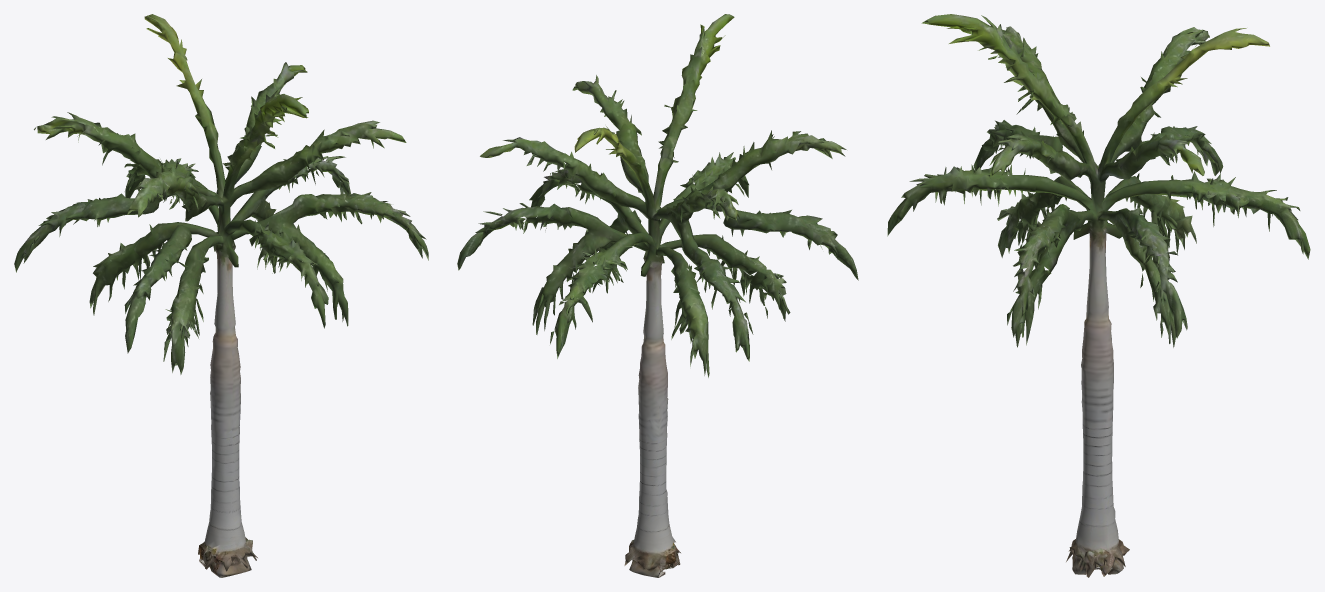
File: palm.glb
3 renders of one model, left to right at view 1: azimuth 30°, elevation 25°; view 2: azimuth 150°, elevation 25°; view 3: azimuth 270°, elevation 25°, orthographic. The views are drawn at different scales.
Parts seen in each view (by area): view 1: tripo_node_8aacbc84-aa9b-44ff-aac6-08dce0273ab0; view 2: tripo_node_8aacbc84-aa9b-44ff-aac6-08dce0273ab0; view 3: tripo_node_8aacbc84-aa9b-44ff-aac6-08dce0273ab0.
Boxes of the visible parts, x1,y1,x2,y2 form: tripo_node_8aacbc84-aa9b-44ff-aac6-08dce0273ab0: (14,14,428,577); tripo_node_8aacbc84-aa9b-44ff-aac6-08dce0273ab0: (457,14,858,577); tripo_node_8aacbc84-aa9b-44ff-aac6-08dce0273ab0: (887,14,1310,577).
Size of the model in its own units: 0.6326 by 0.9792 by 0.679.
Materials: 1 (1 with a texture image).
